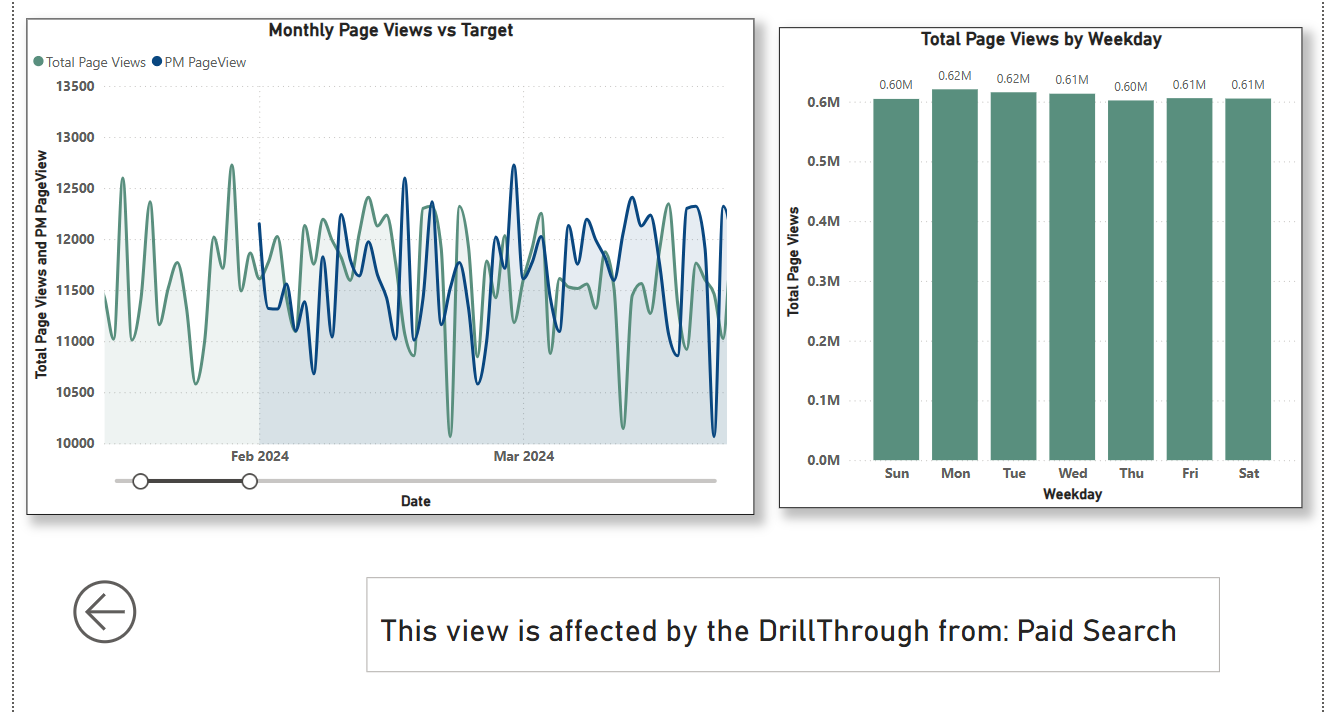

This screenshot's page, from the dashboard's own definition file:
{"tool":"powerbi","page":{"name":"Page 2","canvas":[1280,720],"ordinal":1},"visuals":[{"type":"lineChart","title":"Monthly Page Views vs Target","fields":{"Category":["DateTable.Date Hierarchy.Date","DateTable.Date Hierarchy.Month"],"Y":["DAXTable.Total Page Views","DAXTable.PM PageView"]},"box":[12.5,36.2,711.7,485.7],"z":0},{"type":"columnChart","fields":{"Category":["DateTable.Weekday"],"Y":["DAXTable.Total Page Views"]},"box":[747.9,44.9,511.9,470.7],"z":1000},{"type":"actionButton","box":[49.9,578.1,83.7,77.4],"z":2000},{"type":"cardVisual","fields":{"Data":["DAXTable.Selected Drill"]},"box":[339.6,578.1,845.3,103.6],"z":3000}]}

Visuals, with their boxes on the page's 1280x720 design canvas (x1, y1, x2, y2). These are canvas units, not pixel positions in the 1338x712 screenshot, which may show the page scaled, cropped or inside an application window:
"Monthly Page Views vs Target" lineChart: <box>12,36,724,522</box>
columnChart - DateTable.Weekday x DAXTable.Total Page Views: <box>748,45,1260,516</box>
actionButton: <box>50,578,134,656</box>
cardVisual - DAXTable.Selected Drill: <box>340,578,1185,682</box>
